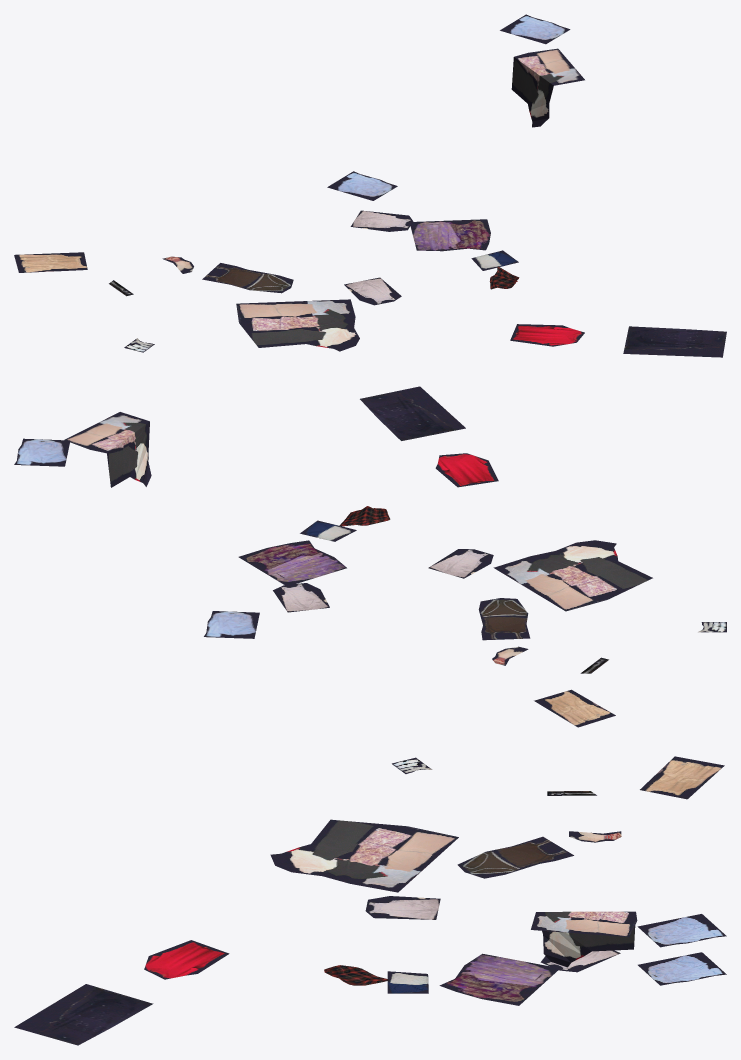
Rendered from rubai.obj.
3 views of the same model, one above another, from view 1: azimuth 30°, elevation 25°; view 2: azimuth 150°, elevation 25°; view 3: azimuth 270°, elevation 25° (orthographic). The views are drawn at different scales.
Size of the model in its own units: 5.89 by 1.2 by 5.29.
1 material, 1 textured.
